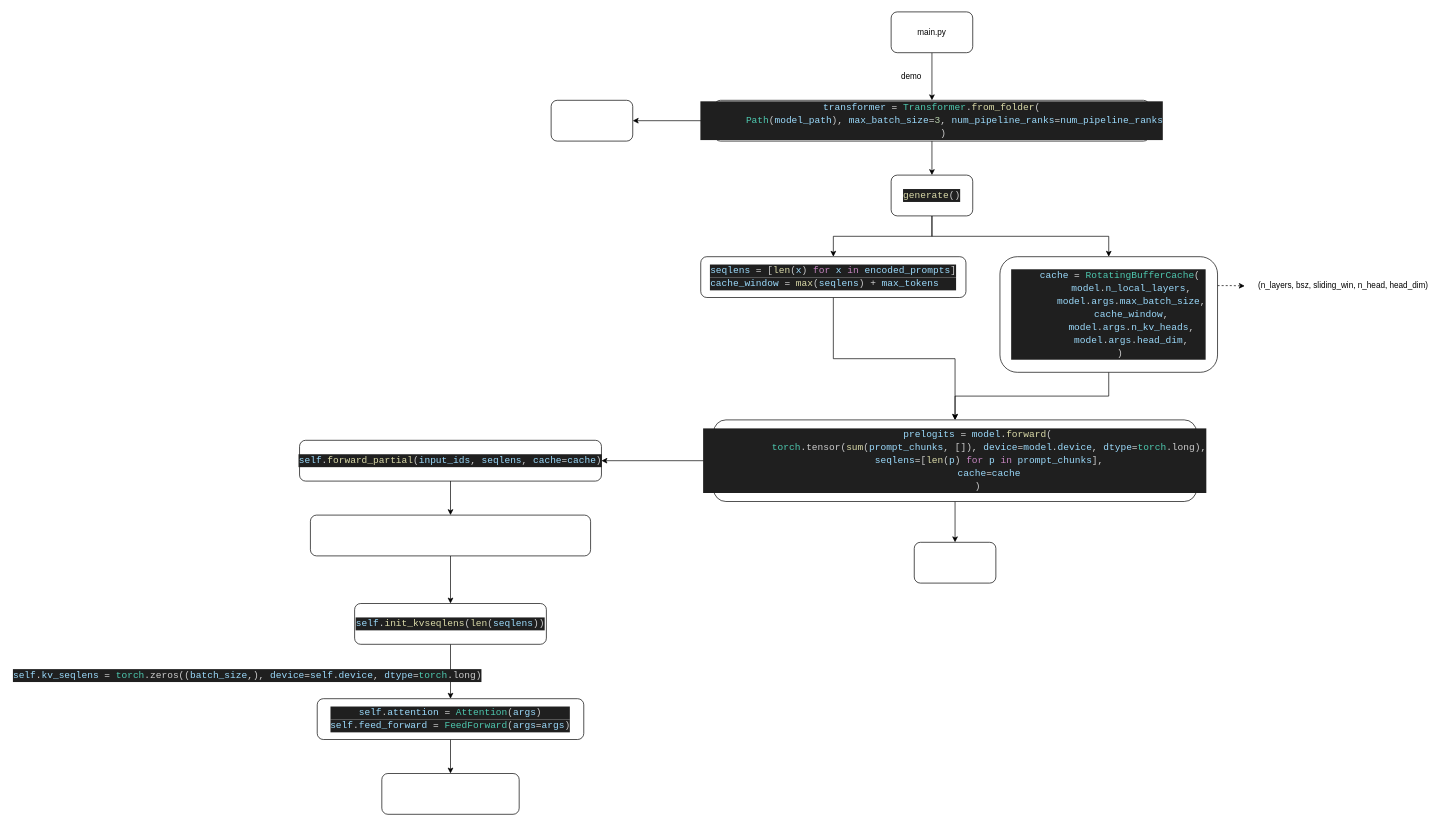
Some shapes in this 1453 by 826 pixel diagram are drawn without their labels. Each missing label, with the centre of its shape:
"input_metadata = cache . get_input_metadata ( seqlens )" goes at point (450, 535).
"memory_efficient_attention" goes at point (450, 793).
"model.py Transformer" goes at point (591, 120).
"sample" goes at point (955, 562).
